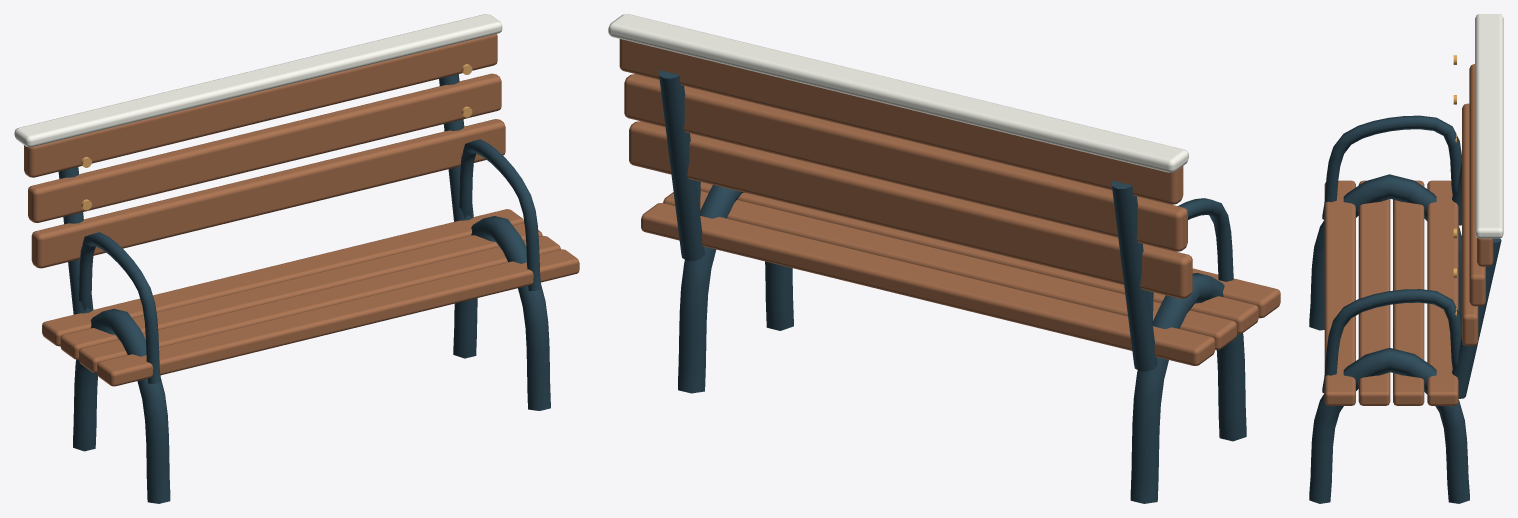
File: fish_white.glb
3 views of the same model, side by side, from view 1: azimuth 30°, elevation 25°; view 2: azimuth 150°, elevation 25°; view 3: azimuth 270°, elevation 25° (orthographic). The views are drawn at different scales.
Parts seen in each view (by area): view 1: snow-capped-bench; view 2: snow-capped-bench; view 3: snow-capped-bench.
Boxes of the visible parts, bbox=[...] form: snow-capped-bench: bbox=[14, 14, 579, 503]; snow-capped-bench: bbox=[608, 14, 1280, 503]; snow-capped-bench: bbox=[1309, 14, 1503, 503].
Bounding box in the file's own units: 1.88 × 1.18 × 0.7112.
